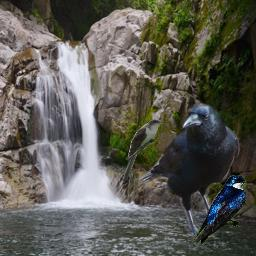Crow: (130, 97, 240, 246)
Cuckoo: (121, 118, 165, 184)
Swallow: (193, 175, 247, 245)
